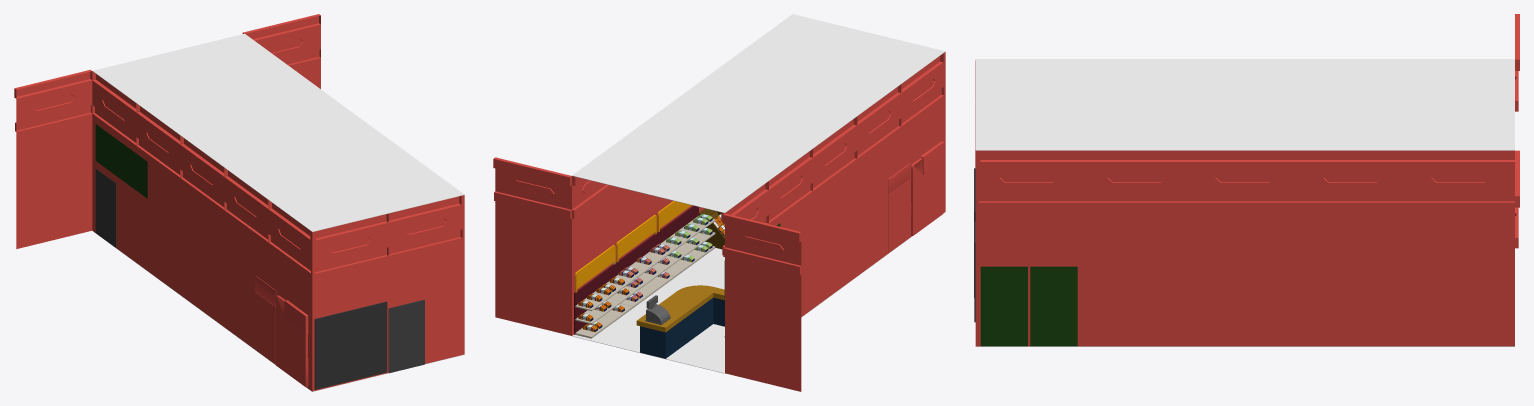
The model's file is Josie's Bakery 1.fbx.
3 views of the same model, side by side, from view 1: azimuth 30°, elevation 25°; view 2: azimuth 150°, elevation 25°; view 3: azimuth 270°, elevation 25° (orthographic). The views are drawn at different scales.
Visible parts, largest first — view 1: Metal_Panel_Wall, Floor_Ceiling, Window, Vending_Machine_A, Door_1, Menu.001, Vending_Machine_B, Door_2; view 2: Metal_Panel_Wall, Floor_Ceiling, Aisle, Counter, Vending_Machine_A, Vending_Machine_B, Crate1, Cash_Register; view 3: Metal_Panel_Wall, Floor_Ceiling, Fridge.005, Fridge.004.
Boxes of the visible parts, x1,y1,x2,y2 form: Metal_Panel_Wall: [14, 14, 464, 391]; Floor_Ceiling: [92, 33, 464, 391]; Window: [314, 301, 387, 389]; Vending_Machine_A: [275, 295, 308, 387]; Door_1: [388, 299, 424, 373]; Menu.001: [95, 124, 147, 198]; Vending_Machine_B: [255, 275, 276, 363]; Door_2: [95, 168, 116, 247]; Metal_Panel_Wall: [493, 52, 945, 391]; Floor_Ceiling: [572, 14, 945, 373]; Aisle: [574, 201, 715, 338]; Counter: [636, 285, 724, 358]; Vending_Machine_A: [911, 141, 944, 235]; Vending_Machine_B: [888, 163, 911, 251]; Crate1: [699, 208, 724, 249]; Cash_Register: [645, 295, 670, 324]; Metal_Panel_Wall: [975, 14, 1519, 346]; Floor_Ceiling: [975, 59, 1514, 346]; Fridge.005: [1030, 266, 1077, 346]; Fridge.004: [980, 266, 1027, 346].
Size of the model in its own units: 800 by 402 by 1012.
Materials: 31 (9 with a texture image).
